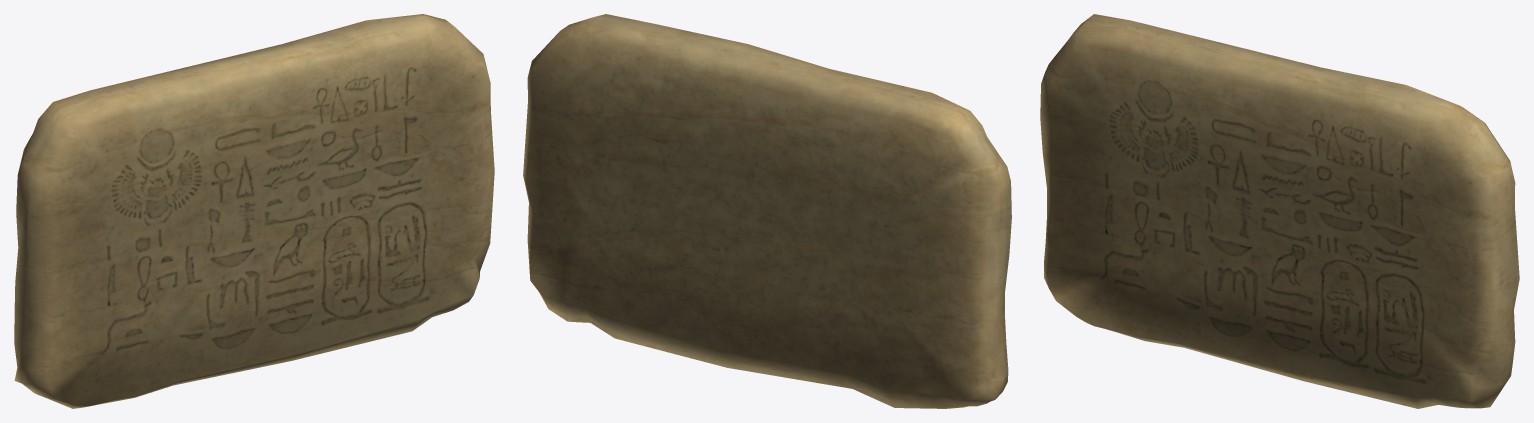
Rendered from egyptian_hieroglyphics_stone___3daily_2017 (1).glb.
3 views of the same model, side by side, from view 1: azimuth 30°, elevation 25°; view 2: azimuth 150°, elevation 25°; view 3: azimuth 330°, elevation 25° (orthographic).
Visible parts, largest first — view 1: RetopoGroup1; view 2: RetopoGroup1; view 3: RetopoGroup1.
Boxes of the visible parts, x1,y1,x2,y2 form: RetopoGroup1: (14,14,494,408); RetopoGroup1: (523,14,1011,408); RetopoGroup1: (1040,14,1519,408).
Bounding box in the file's own units: 541 × 345 × 62.48.
Materials: 1 (1 with a texture image).
